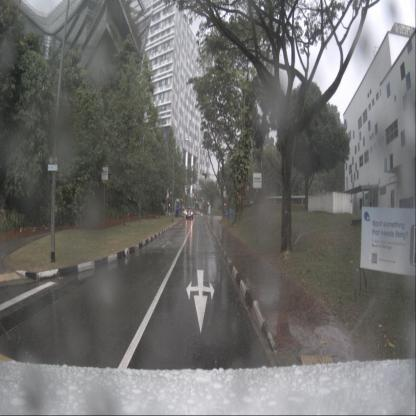vehicle-car: (224, 208, 236, 217), (186, 209, 193, 219)
